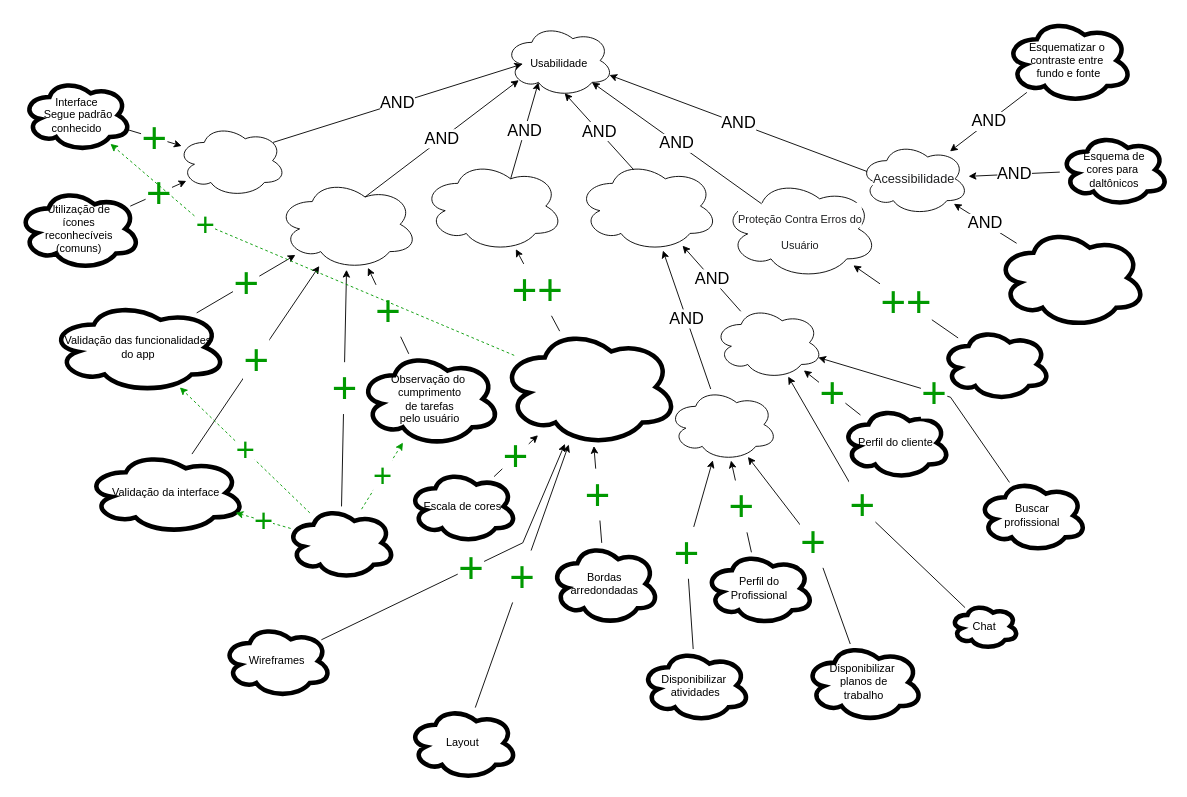
Some shapes in this 1187 by 797 pixel diagram are drawn without their labels. The box of each missing label's shape, as (x1, y1, x2, y2) in pixels:
Análsie de Tarefas: (283, 504, 397, 581)
Aprendizagem: (176, 123, 286, 197)
Diálogos de confirmação: (939, 325, 1052, 402)
Estética: (422, 160, 563, 252)
Funcionalidades do cliente: (713, 305, 823, 379)
Funcionalidades do profissional: (667, 387, 778, 461)
Interface organizada e com semântica para leitura para cegos: (993, 225, 1148, 330)
Operacionalidade: (576, 160, 718, 252)
Reconhecimento de Adequabilidade: (276, 178, 418, 270)
Seguir um guia de estilo: (498, 325, 680, 448)
